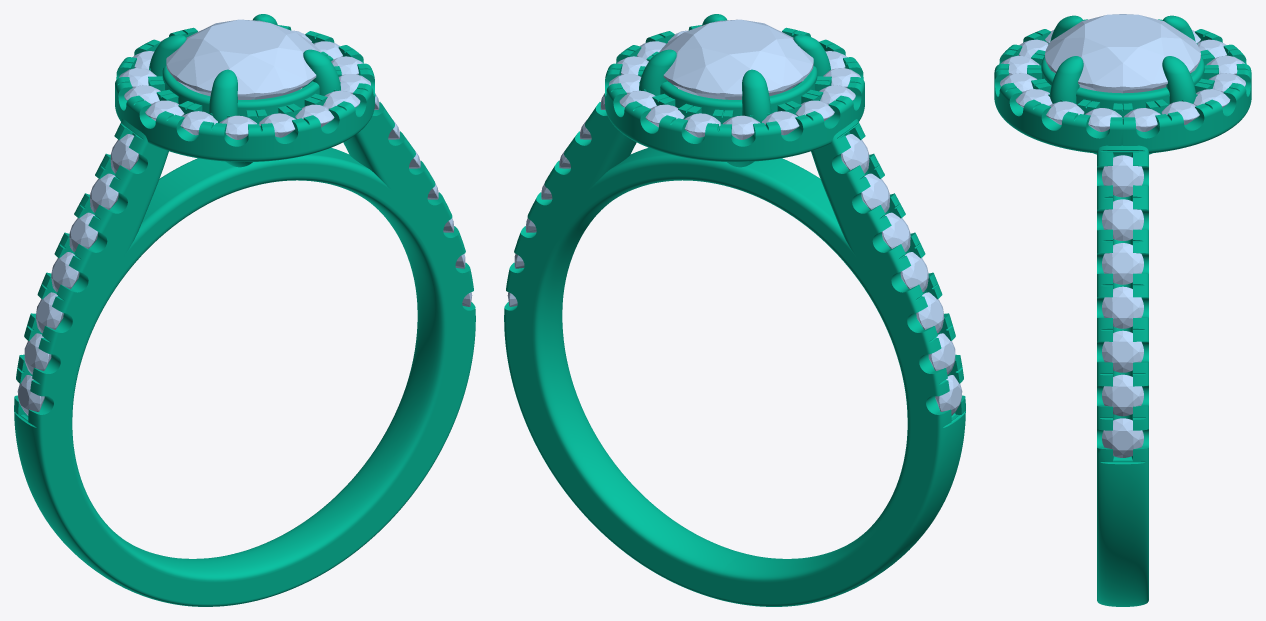
The picture shows the model from 3 angles, left to right: view 1: azimuth 30°, elevation 25°; view 2: azimuth 150°, elevation 25°; view 3: azimuth 270°, elevation 25°; orthographic projection.
Parts seen in each view (by area): view 1: JTC 6572(front).3dm, Diamond_Round (×8); view 2: JTC 6572(front).3dm, Diamond_Round (×8); view 3: JTC 6572(front).3dm, Diamond_Round (×20).
Part boxes in pixels (left/top/right/bottom): JTC 6572(front).3dm: left=14, top=14, right=475, bottom=606; Diamond_Round (×8): left=17, top=19, right=320, bottom=415; JTC 6572(front).3dm: left=504, top=14, right=965, bottom=606; Diamond_Round (×8): left=659, top=19, right=962, bottom=415; JTC 6572(front).3dm: left=994, top=15, right=1251, bottom=606; Diamond_Round (×20): left=1000, top=14, right=1245, bottom=457.
Size of the model in its own units: 2.44 by 2.92 by 1.23.
